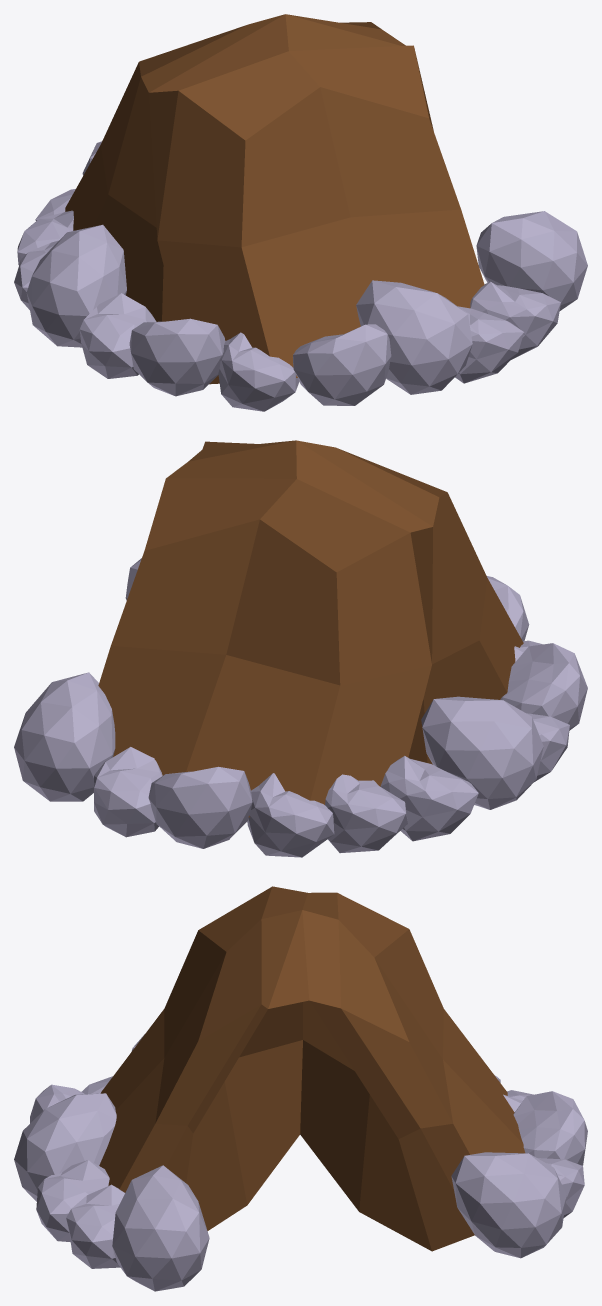
Rendered from Shelter.fbx.
3 views of the same model, one above another, from view 1: azimuth 30°, elevation 25°; view 2: azimuth 150°, elevation 25°; view 3: azimuth 270°, elevation 25° (orthographic). The views are drawn at different scales.
Parts seen in each view (by area): view 1: Куб, Икосфера, Икосфера.005, Икосфера.006, Икосфера.001, Икосфера.003, Икосфера.002, Икосфера.004, Икосфера.014, Икосфера.015, Икосфера.009, Икосфера.008 (+1 smaller); view 2: Куб, Икосфера.005, Икосфера.007, Икосфера.011, Икосфера.008, Икосфера.003, Икосфера.010, Икосфера.009, Икосфера.012, Икосфера.004, Икосфера.001; view 3: Куб, Икосфера.007, Икосфера.006, Икосфера, Икосфера.011, Икосфера.014, Икосфера.015, Икосфера.012, Икосфера.001.
Part boxes in pixels (box(x1,y1,x2,y2)): Куб: box(65, 14, 484, 384); Икосфера: box(356, 280, 472, 394); Икосфера.005: box(26, 224, 126, 347); Икосфера.006: box(476, 211, 587, 310); Икосфера.001: box(293, 324, 391, 405); Икосфера.003: box(129, 318, 225, 396); Икосфера.002: box(218, 332, 299, 411); Икосфера.004: box(79, 293, 156, 378); Икосфера.014: box(470, 281, 560, 359); Икосфера.015: box(455, 306, 524, 383); Икосфера.009: box(17, 210, 73, 264); Икосфера.008: box(14, 240, 58, 309); Куб: box(98, 440, 523, 817); Икосфера.005: box(421, 696, 543, 809); Икосфера.007: box(14, 672, 115, 801); Икосфера.011: box(148, 766, 252, 848); Икосфера.008: box(380, 756, 478, 841); Икосфера.003: box(500, 643, 587, 730); Икосфера.010: box(247, 773, 334, 857); Икосфера.009: box(325, 774, 407, 853); Икосфера.012: box(94, 747, 162, 837); Икосфера.004: box(526, 713, 569, 781); Икосфера.001: box(487, 576, 529, 641); Куб: box(99, 886, 525, 1251); Икосфера.007: box(451, 1152, 566, 1258); Икосфера.006: box(112, 1165, 209, 1291); Икосфера: box(14, 1093, 116, 1201); Икосфера.011: box(513, 1091, 587, 1165); Икосфера.014: box(66, 1184, 124, 1268); Икосфера.015: box(36, 1160, 109, 1241); Икосфера.012: box(537, 1158, 584, 1217); Икосфера.001: box(30, 1084, 84, 1123).
Bounding box in the file's own units: 430 × 269 × 461.
